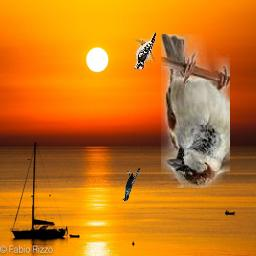Crow: (122, 167, 141, 201)
Sparrow: (162, 34, 231, 188)
Woodpecker: (134, 31, 157, 69)
